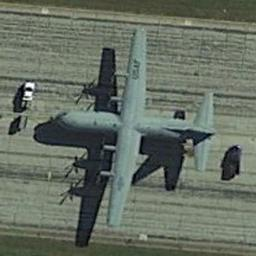Airplane: (52, 22, 220, 240)
